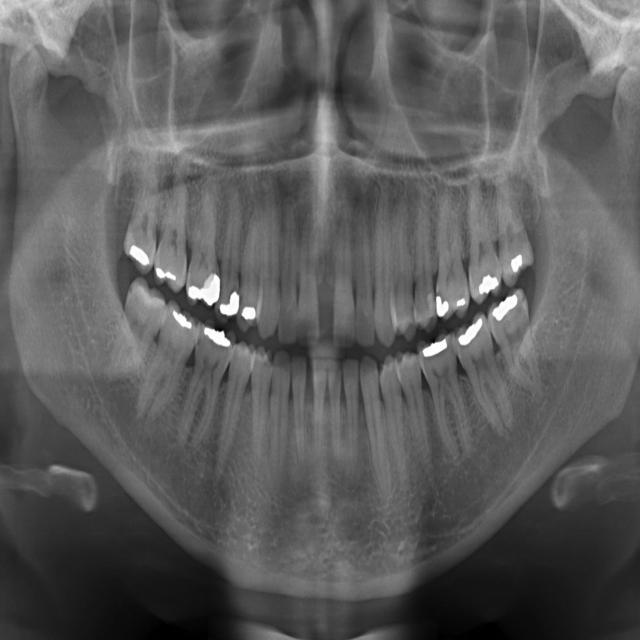3M ESPE Implant: (121, 159, 162, 275)
AGS Medikal Implant: (447, 309, 521, 450)
AMerOss Implant: (413, 327, 476, 465)
Amalgam filling: (151, 165, 199, 295)
Anthogyr Implant: (394, 345, 446, 487)
Bicon Implant: (375, 353, 419, 491)
BioHorizons Implant: (358, 353, 391, 500)
BioLife Implant: (341, 356, 362, 481)
Biomet 3i Implant: (325, 356, 347, 463)
Blue Sky Bio Implant: (312, 357, 325, 463)
Camlog Implant: (291, 352, 309, 466)
Caries: (348, 205, 376, 350)
Composite filling: (267, 348, 292, 477)
Cowellmedi Implant: (245, 342, 273, 471)
Crown: (200, 340, 258, 486)
DENTSPLY Implant: (183, 188, 230, 309)
Dentatus Implant: (167, 317, 238, 456)
Dentis Implant: (145, 412, 145, 413)
Dentium Implant: (112, 377, 112, 378)
Euroteknika Implant: (214, 181, 250, 324)
Filling: (234, 206, 264, 334)
Frontier Implant: (256, 171, 285, 341)
Hiossen Implant: (368, 177, 396, 349)
Implant: (296, 208, 320, 349)
Implant Direct: (278, 200, 298, 345)
Keystone Dental Implant: (332, 204, 355, 350)
MIS Implant: (387, 197, 417, 344)
Mandible: (413, 186, 437, 335)
Maxilla: (433, 186, 470, 322)
Megagen Implant: (468, 173, 504, 304)
Neodent Implant: (485, 162, 539, 288)
Neoss Implant: (539, 391, 539, 392)
